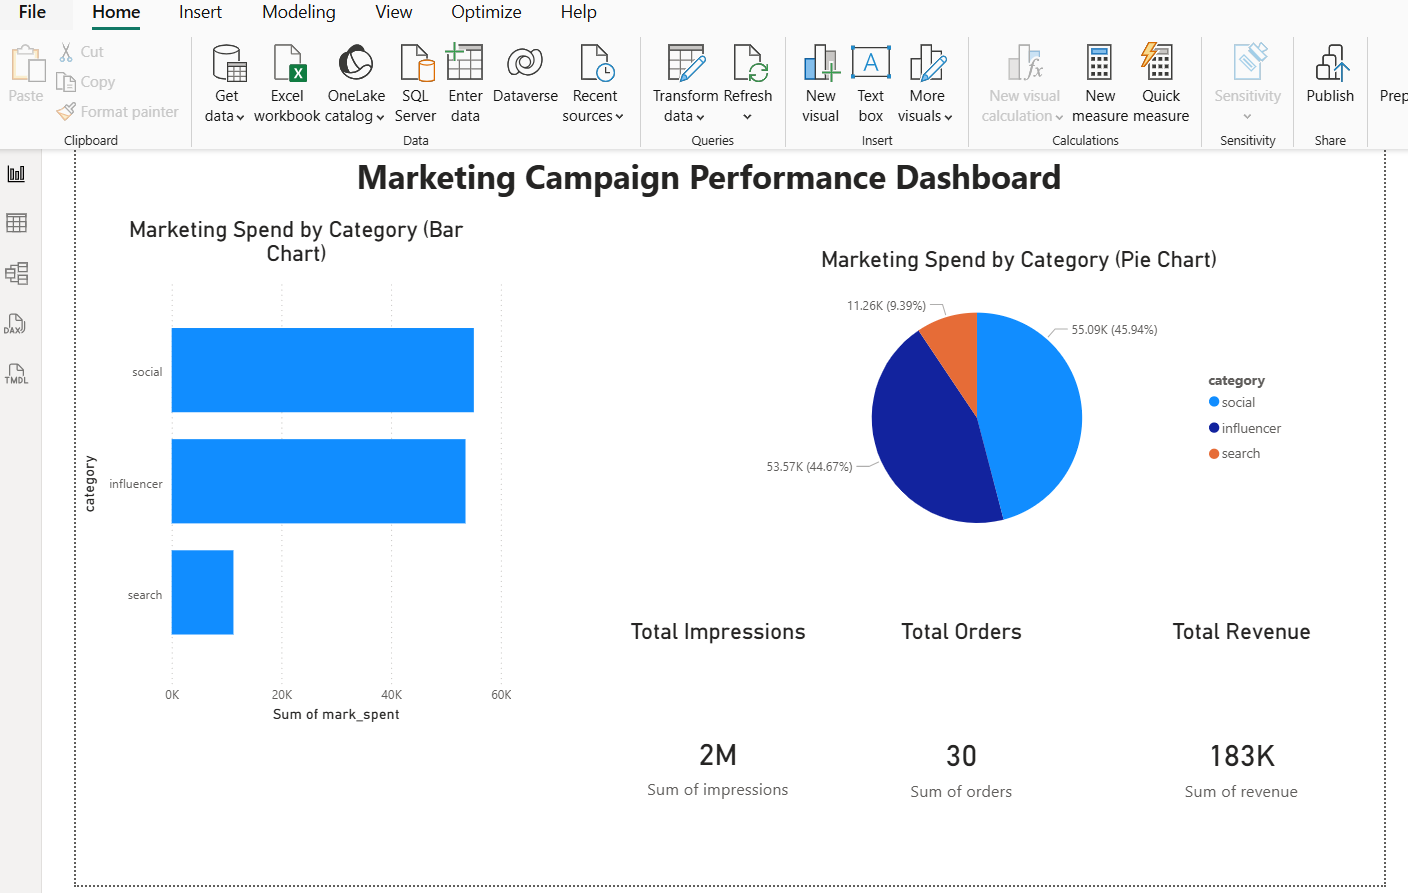

This screenshot's page, from the dashboard's own definition file:
{"tool":"powerbi","page":{"name":"Page 1","canvas":[1280,720],"ordinal":0},"visuals":[{"type":"clusteredBarChart","title":"Marketing Spend by Category (Bar Chart)","fields":{"Category":["marketing_data.category"],"Y":["Sum(marketing_data.mark_spent)"]},"box":[0,66.2,430.8,500],"z":0},{"type":"card","title":"Total Impressions","fields":{"Values":["Sum(marketing_data.impressions)"]},"box":[484.6,460,287.7,256.9],"z":2000},{"type":"card","title":"Total Revenue","fields":{"Values":["Sum(marketing_data.revenue)"]},"box":[1000,460,280,260],"z":3000},{"type":"card","title":"Total Orders","fields":{"Values":["Sum(marketing_data.orders)"]},"box":[732.3,460,267.7,260],"z":4000},{"type":"pieChart","title":"Marketing Spend by Category (Pie Chart)","fields":{"Category":["marketing_data.category"],"Y":["Sum(marketing_data.mark_spent)"]},"box":[650.8,95.4,543.1,309.2],"z":4001},{"type":"textbox","box":[0,0,1238.5,66.2],"z":4002}]}

Visuals, with their boxes on the page's 1280x720 design canvas (x1, y1, x2, y2). These are canvas units, not pixel positions in the 1408x893 screenshot, which may show the page scaled, cropped or inside an application window:
"Marketing Spend by Category (Bar Chart)" clusteredBarChart: {"left": 0, "top": 66, "right": 431, "bottom": 566}
"Total Impressions" card: {"left": 485, "top": 460, "right": 772, "bottom": 717}
"Total Revenue" card: {"left": 1000, "top": 460, "right": 1280, "bottom": 720}
"Total Orders" card: {"left": 732, "top": 460, "right": 1000, "bottom": 720}
"Marketing Spend by Category (Pie Chart)" pieChart: {"left": 651, "top": 95, "right": 1194, "bottom": 405}
textbox: {"left": 0, "top": 0, "right": 1238, "bottom": 66}
